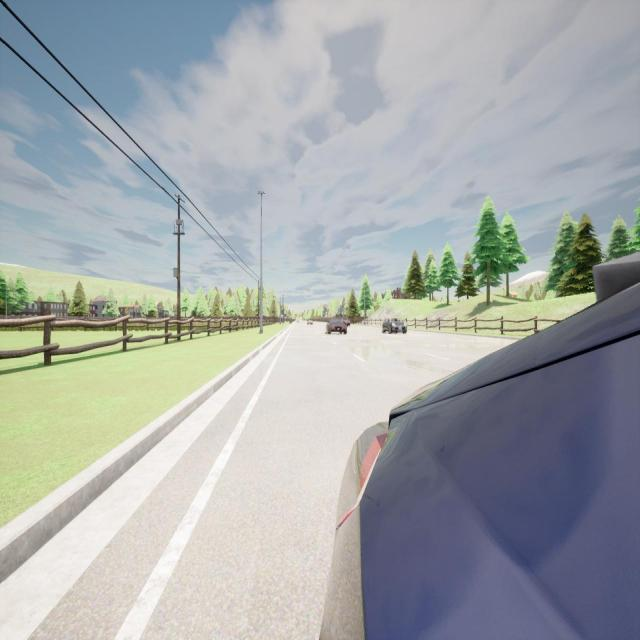Vehicle: (323, 286, 640, 638), (590, 248, 640, 300), (382, 318, 407, 333), (326, 320, 347, 334), (342, 319, 350, 326), (307, 320, 313, 325), (297, 320, 299, 323)
